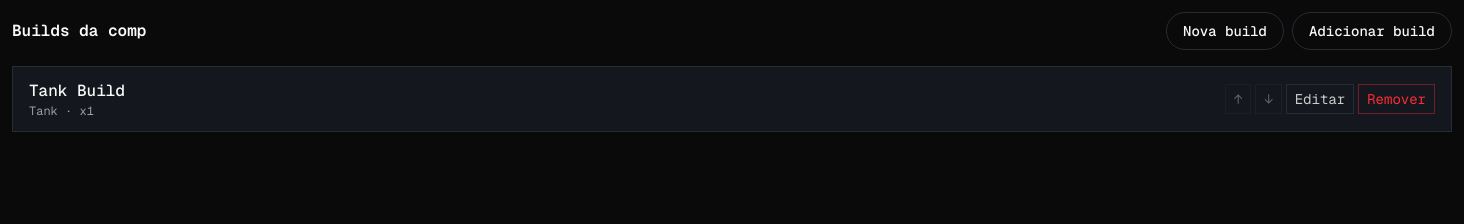
it: CompBuildsManager (ACM-098) › AC#5: editing label and count persists via updateCompBuild
Click the button "Editar". click: (1320,99)
box: [1286,84,1354,114]
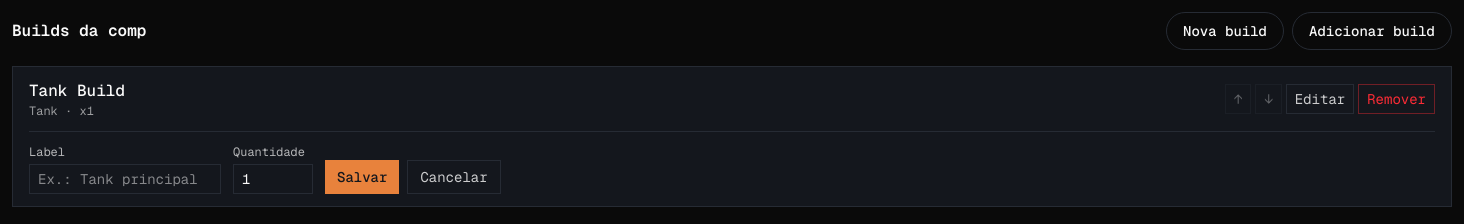
Type "Main tank" into the field labelled "Label". click: (125,179)
box: [29,164,221,194]
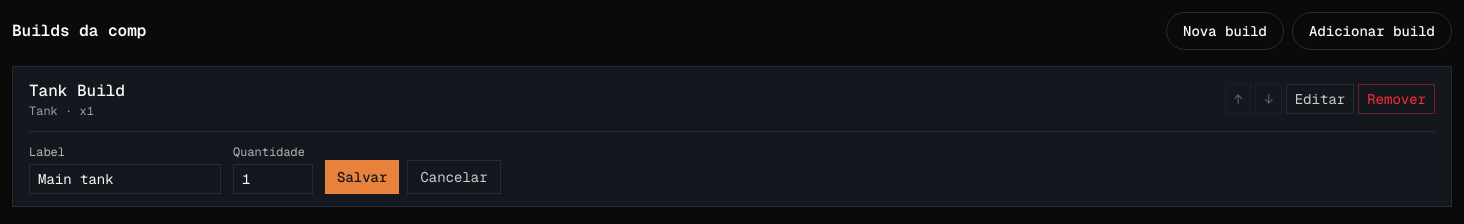
Replace the text in the number field labelled "Quantidade" with "3". click: (273,179)
box: [233,164,313,194]
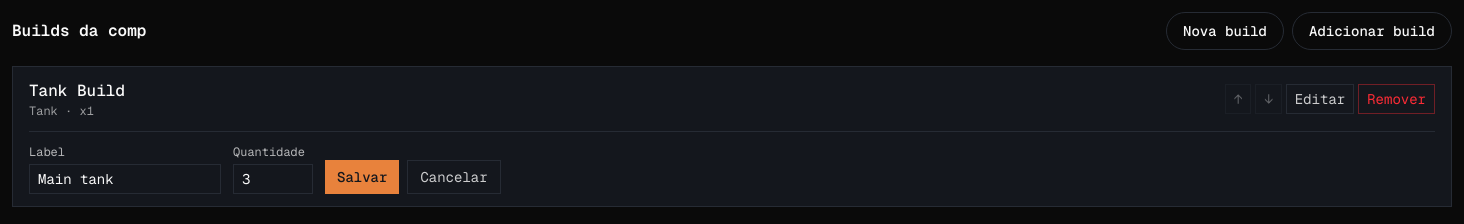
Click the button "Salvar". click: (362,177)
box: [325,160,399,194]
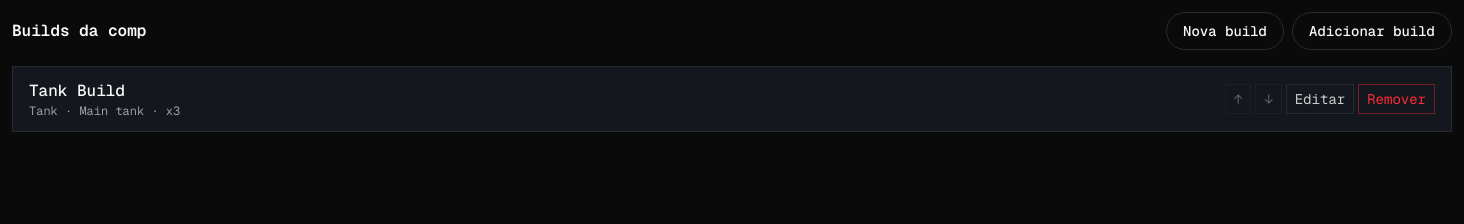
Now the text "Tank · Main tank · x3" is shown, box [29,103,180,119]
